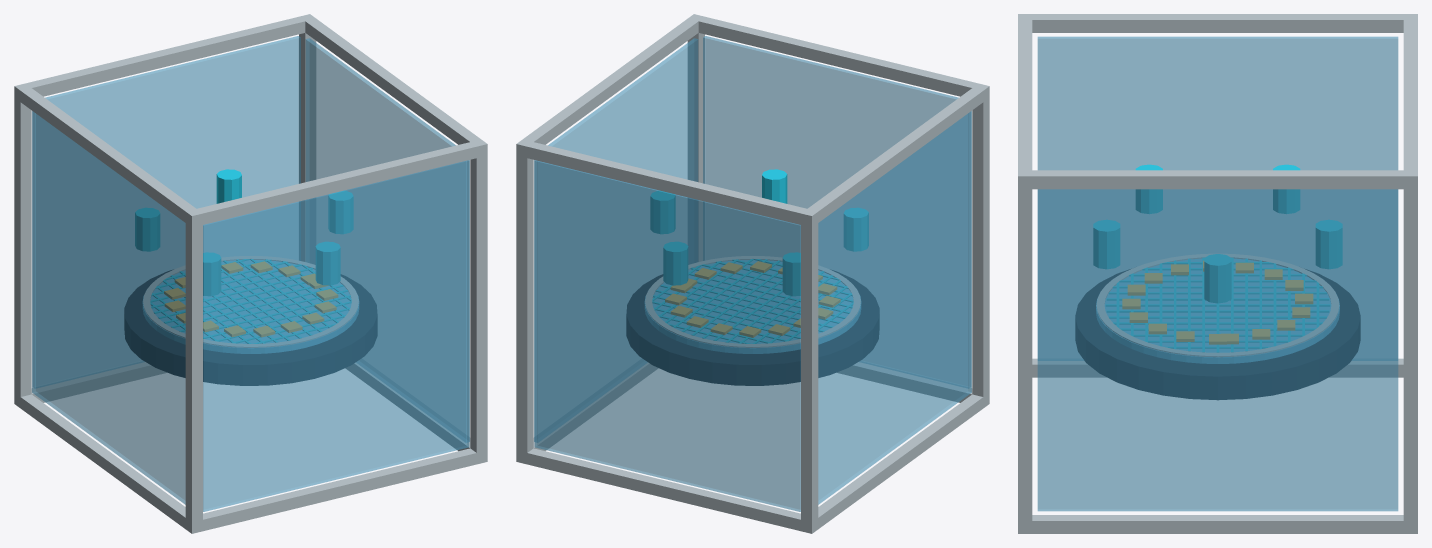
Rendered from 50_L77_HighSpeedWaferSpinDryer.fbx.
3 renders of one model, left to right at view 1: azimuth 30°, elevation 25°; view 2: azimuth 150°, elevation 25°; view 3: azimuth 270°, elevation 25°, orthographic. The views are drawn at different scales.
Parts seen in each view (by area): view 1: HighSpeedWaferSpinDryer, HighSpeedWaferSpinDryer_Part_0016, HighSpeedWaferSpinDryer_Part_0017, HighSpeedWaferSpinDryer_Part_0018; view 2: HighSpeedWaferSpinDryer, HighSpeedWaferSpinDryer_Part_0016, HighSpeedWaferSpinDryer_Part_0017, HighSpeedWaferSpinDryer_Part_0018; view 3: HighSpeedWaferSpinDryer, HighSpeedWaferSpinDryer_Part_0016, HighSpeedWaferSpinDryer_Part_0017, HighSpeedWaferSpinDryer_Part_0018, HighSpeedWaferSpinDryer_Part_0033, HighSpeedWaferSpinDryer_Part_0037, HighSpeedWaferSpinDryer_Part_0035, HighSpeedWaferSpinDryer_Part_0039.
Boxes of the visible parts, box(x1,y1,x2,y2) form: HighSpeedWaferSpinDryer: box(14, 14, 487, 533); HighSpeedWaferSpinDryer_Part_0016: box(124, 270, 377, 385); HighSpeedWaferSpinDryer_Part_0017: box(143, 260, 358, 353); HighSpeedWaferSpinDryer_Part_0018: box(143, 256, 358, 347); HighSpeedWaferSpinDryer: box(516, 14, 989, 533); HighSpeedWaferSpinDryer_Part_0016: box(626, 270, 879, 385); HighSpeedWaferSpinDryer_Part_0017: box(645, 260, 860, 353); HighSpeedWaferSpinDryer_Part_0018: box(645, 256, 860, 347); HighSpeedWaferSpinDryer: box(1018, 14, 1417, 533); HighSpeedWaferSpinDryer_Part_0016: box(1075, 269, 1360, 399); HighSpeedWaferSpinDryer_Part_0017: box(1096, 259, 1339, 363); HighSpeedWaferSpinDryer_Part_0018: box(1097, 254, 1338, 356); HighSpeedWaferSpinDryer_Part_0033: box(1106, 304, 1329, 306); HighSpeedWaferSpinDryer_Part_0037: box(1109, 316, 1326, 318); HighSpeedWaferSpinDryer_Part_0035: box(1107, 310, 1328, 312); HighSpeedWaferSpinDryer_Part_0039: box(1113, 322, 1322, 324).
Bounding box in the file's own units: 148 × 152 × 154.
